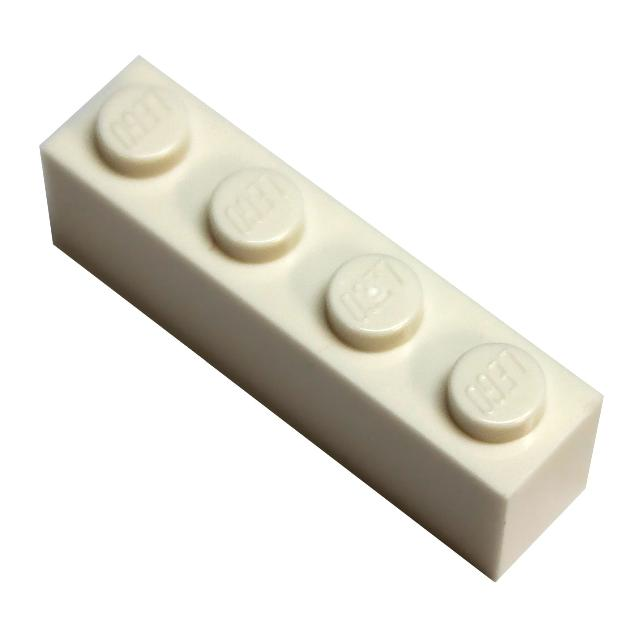1x4: (41, 57, 602, 579)
